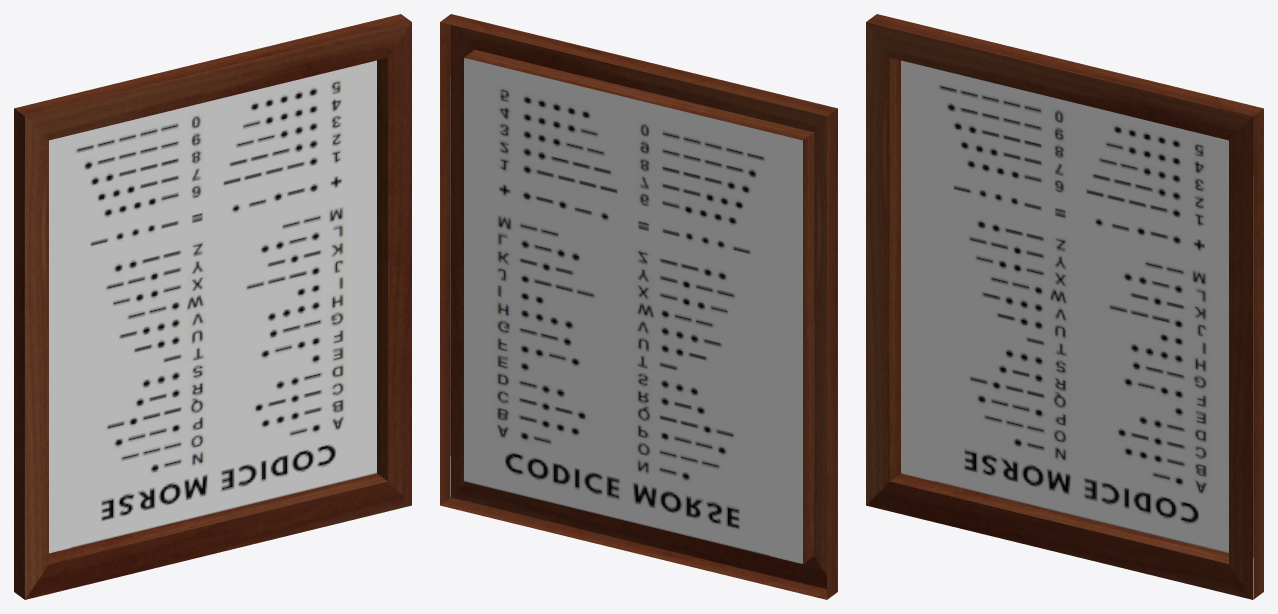
The model's file is Lavagna.fbx.
3 renders of one model, left to right at view 1: azimuth 30°, elevation 25°; view 2: azimuth 150°, elevation 25°; view 3: azimuth 330°, elevation 25°, orthographic.
Visible parts, largest first — view 1: Plane; view 2: Plane; view 3: Plane.
Part boxes in pixels (<box>): Plane: <box>14,14,411,599</box>; Plane: <box>440,14,837,599</box>; Plane: <box>866,14,1263,599</box>.
Bounding box in the file's own units: 119 × 143 × 5.87.
